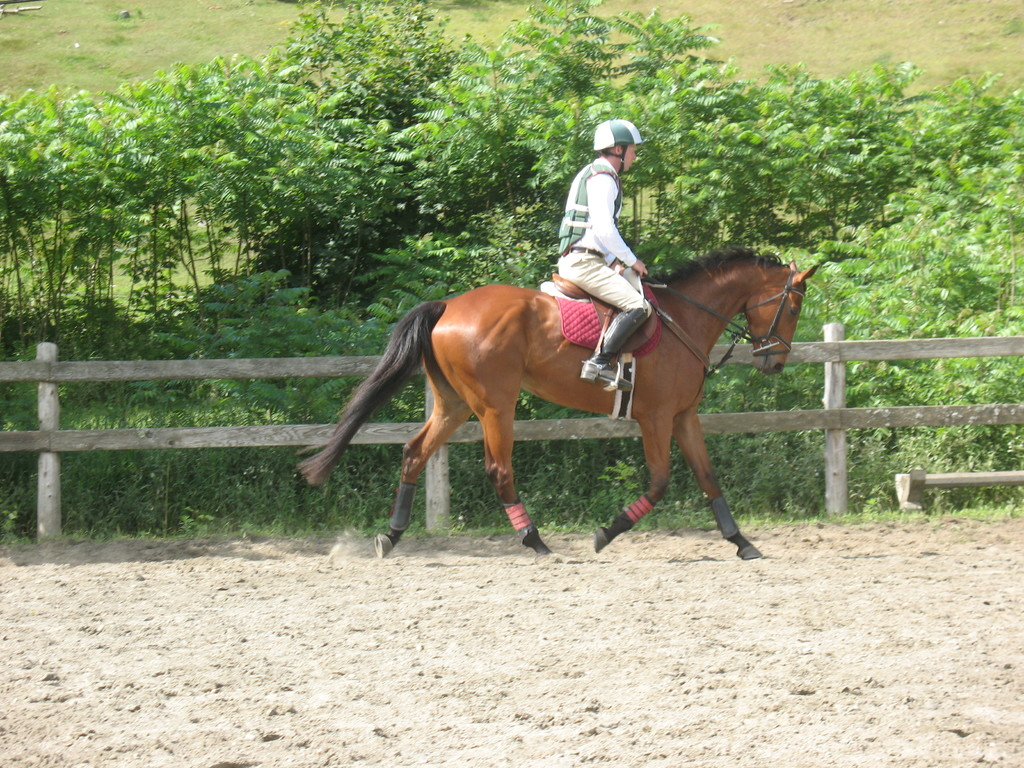horse: (295, 245, 820, 559)
